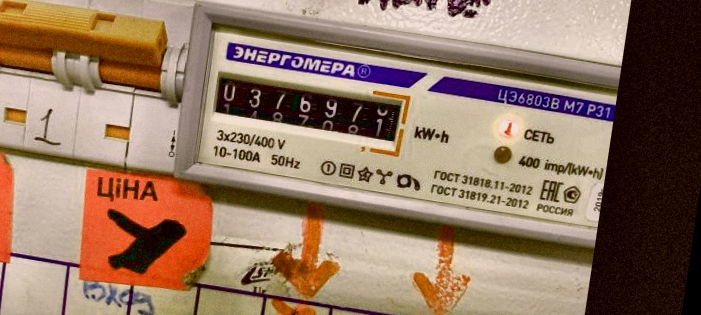0: (219, 79, 238, 102)
1: (371, 115, 385, 138)
3: (245, 85, 262, 109)
6: (297, 90, 313, 113)
7: (271, 85, 287, 111), (347, 99, 363, 123)
9: (321, 95, 337, 119)
screen: (202, 63, 413, 160)
